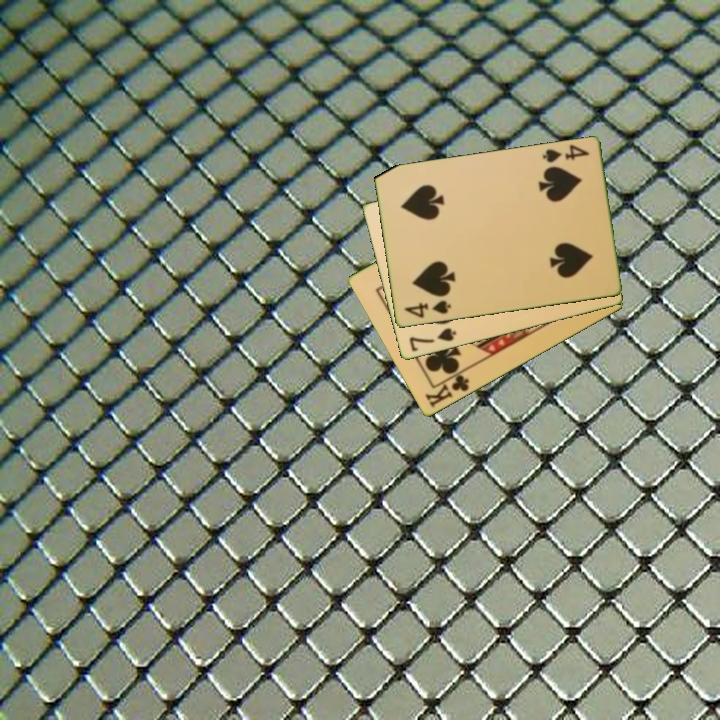4s: (538, 141, 592, 166), (401, 297, 453, 321)
7s: (405, 325, 459, 355)
Kc: (421, 367, 472, 411)
